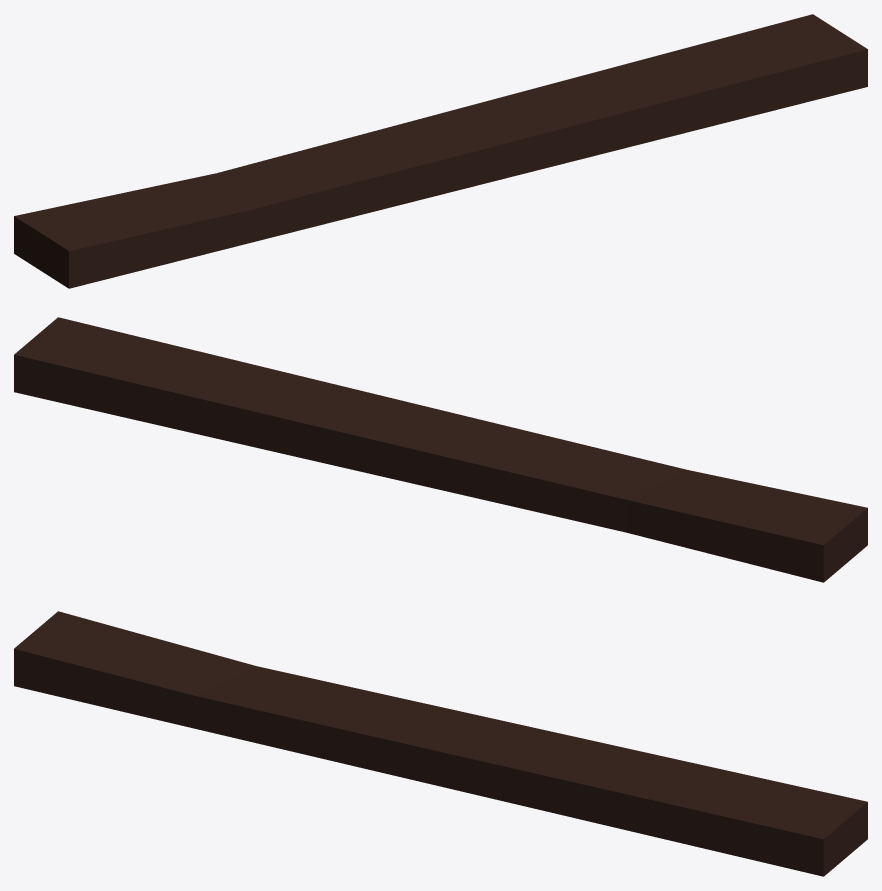
The model's file is Wood 2.glb.
3 renders of one model, top to bottom at view 1: azimuth 30°, elevation 25°; view 2: azimuth 150°, elevation 25°; view 3: azimuth 330°, elevation 25°, orthographic.
Visible parts, largest first — view 1: Wood 2; view 2: Wood 2; view 3: Wood 2.
Boxes of the visible parts, x1,y1,x2,y2 form: Wood 2: (14,14,867,288); Wood 2: (14,317,867,582); Wood 2: (14,611,867,876).
Size of what is drawn, in the model's own units: 3.43 by 0.1519 by 0.4167.
Materials: 1 (1 with a texture image).
